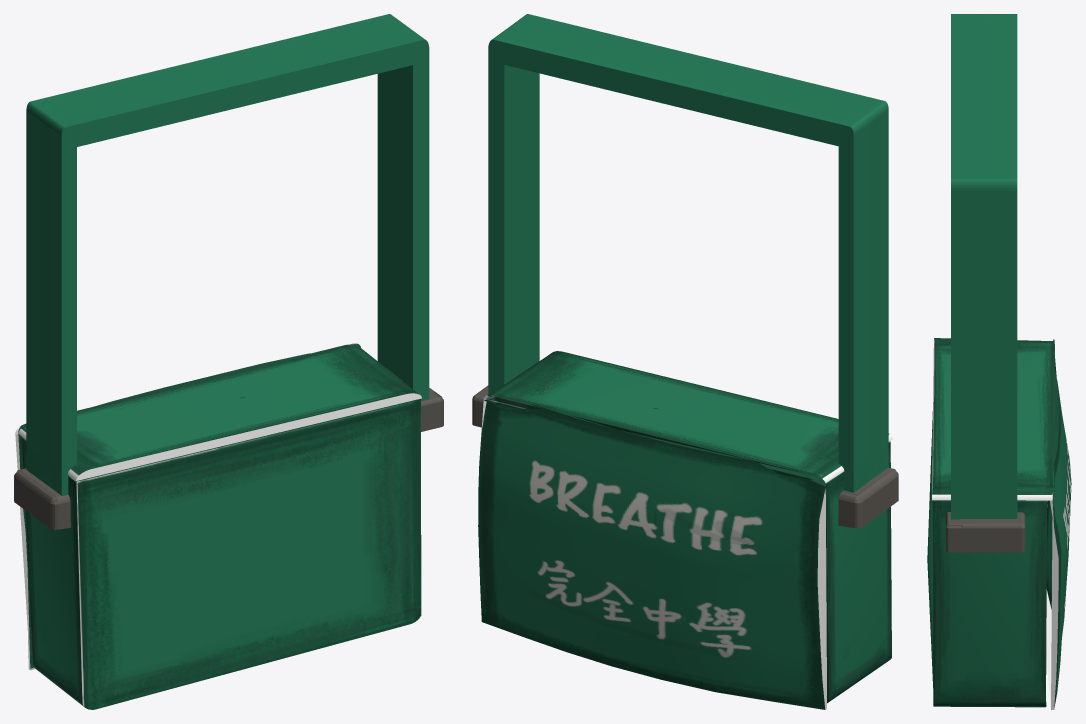
File: 側背包9.fbx
The picture shows the model from 3 angles, left to right: view 1: azimuth 30°, elevation 25°; view 2: azimuth 150°, elevation 25°; view 3: azimuth 270°, elevation 25°; orthographic projection. The views are drawn at different scales.
Visible parts, largest first — view 1: Cube.001, 立方體.002, 立方體.001, 立方體; view 2: Cube.001, 立方體.002, 立方體.001; view 3: Cube.001, 立方體.002, 立方體.
Part boxes in pixels (<box>): Cube.001: <box>15,343,421,709</box>; 立方體.002: <box>26,14,429,495</box>; 立方體.001: <box>14,468,70,529</box>; 立方體: <box>421,388,443,431</box>; Cube.001: <box>478,351,892,709</box>; 立方體.002: <box>488,14,888,492</box>; 立方體.001: <box>838,467,898,528</box>; Cube.001: <box>927,338,1071,709</box>; 立方體.002: <box>951,14,1017,519</box>; 立方體: <box>946,512,1025,552</box>.
Size of the model in its own units: 51.25 by 72.99 by 17.39.
4 materials, 4 textured.
